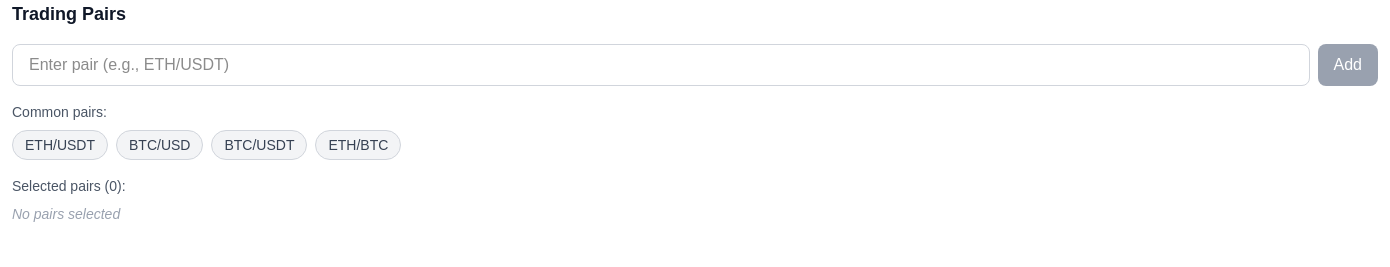
Test: TradingPairSelector › Validation Errors › should show error for invalid format
The image size is (1390, 267).
In the field with placeholder "Enter pair (e.g., ETH/USDT)": [661, 65] box x1=12 y1=44 x2=1310 y2=86, type "INVALID"
Then press Enter
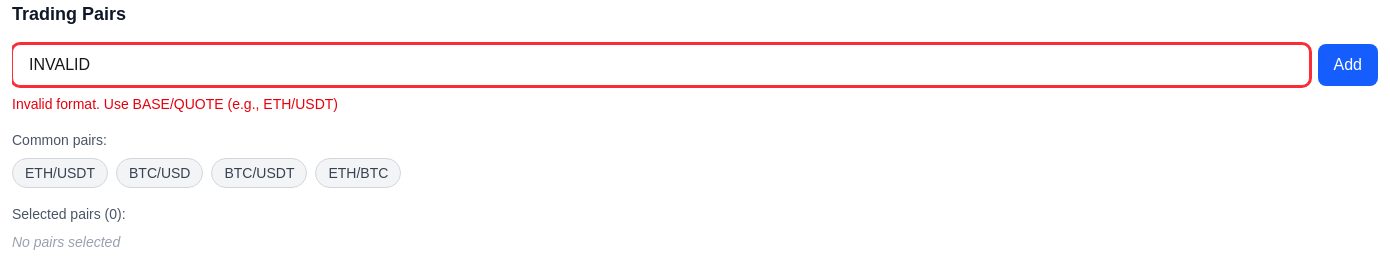
Expected: the text "Invalid format. Use BASE/QUOTE (e.g., ETH/USDT)" is shown, x1=12 y1=96 x2=338 y2=112
